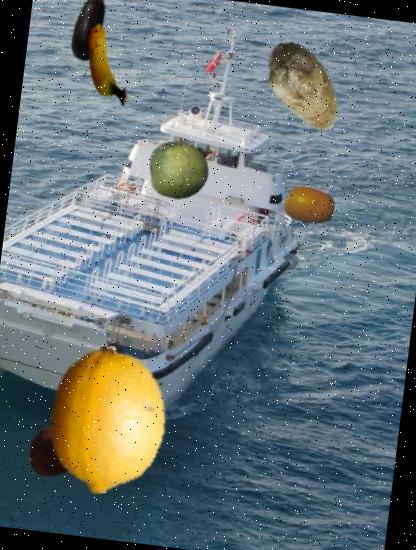Banana: (60, 17, 156, 113)
Chestnut: (27, 421, 88, 482)
Eggplant: (48, 0, 129, 67)
Ginger: (249, 33, 358, 142)
Kumquats: (280, 177, 338, 235)
Lemon: (25, 338, 189, 502)
Limes: (145, 137, 212, 204)
